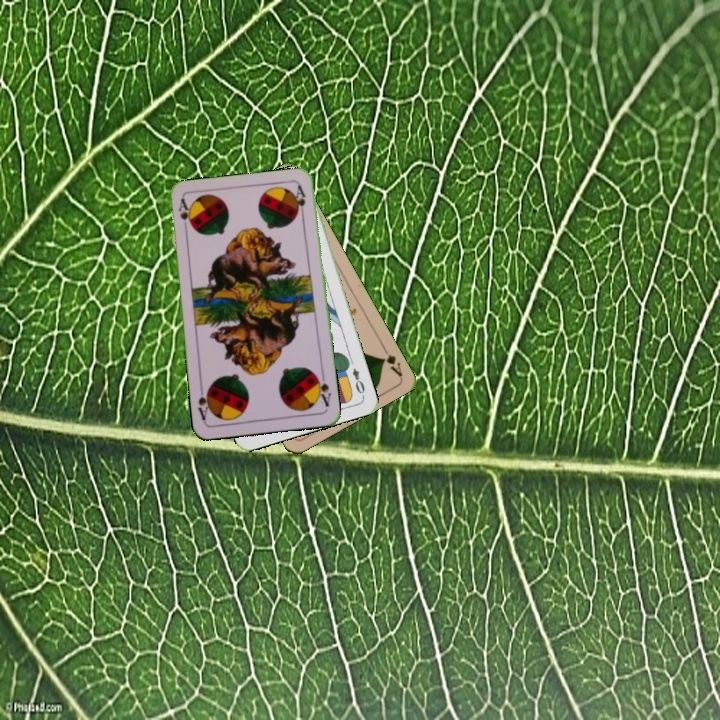EO: (348, 364, 367, 399)
GA: (378, 341, 405, 379)
SA: (312, 369, 334, 409), (174, 195, 194, 236)
